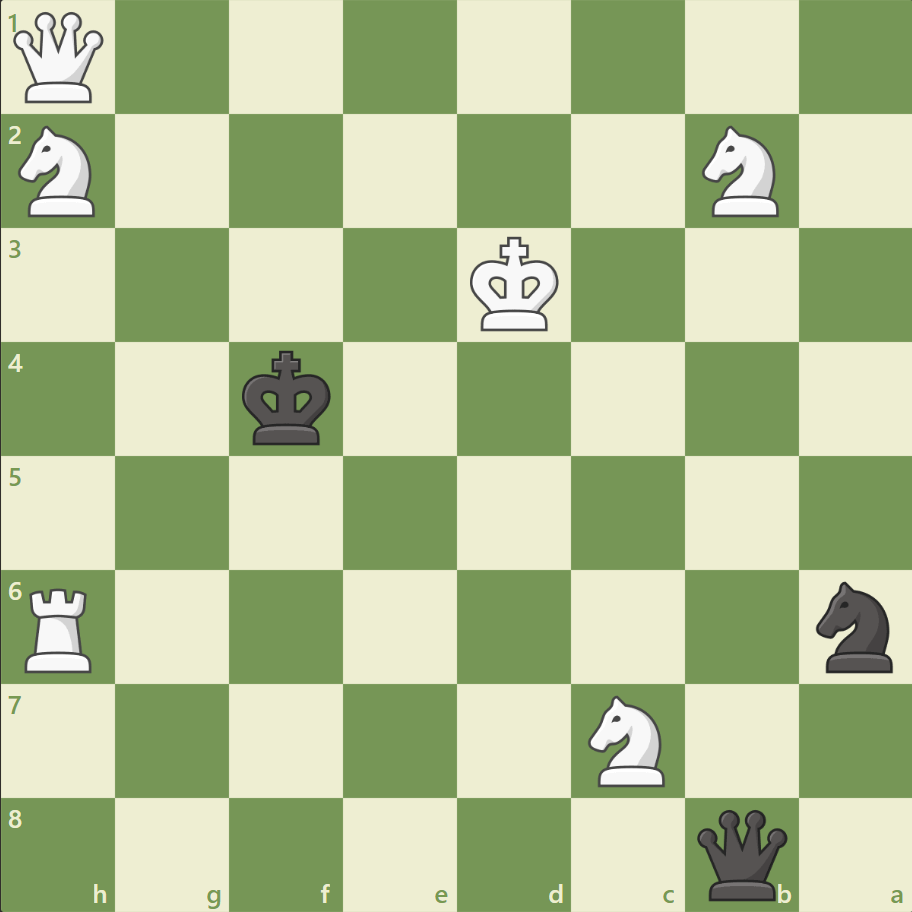K: (465, 231, 565, 339)
N: (579, 688, 676, 791), (692, 121, 789, 223), (11, 121, 108, 223)
Q: (10, 9, 109, 108)
R: (19, 579, 102, 676)
k: (238, 344, 338, 452)
n: (806, 575, 903, 677)
q: (691, 804, 790, 903)
